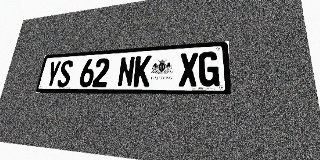2: (92, 58, 110, 87)
6: (78, 59, 96, 87)
G: (199, 51, 219, 86)
K: (133, 55, 152, 87)
N: (117, 56, 135, 87)
S: (56, 60, 74, 87)
X: (179, 52, 198, 87)
Y: (44, 61, 62, 87)
